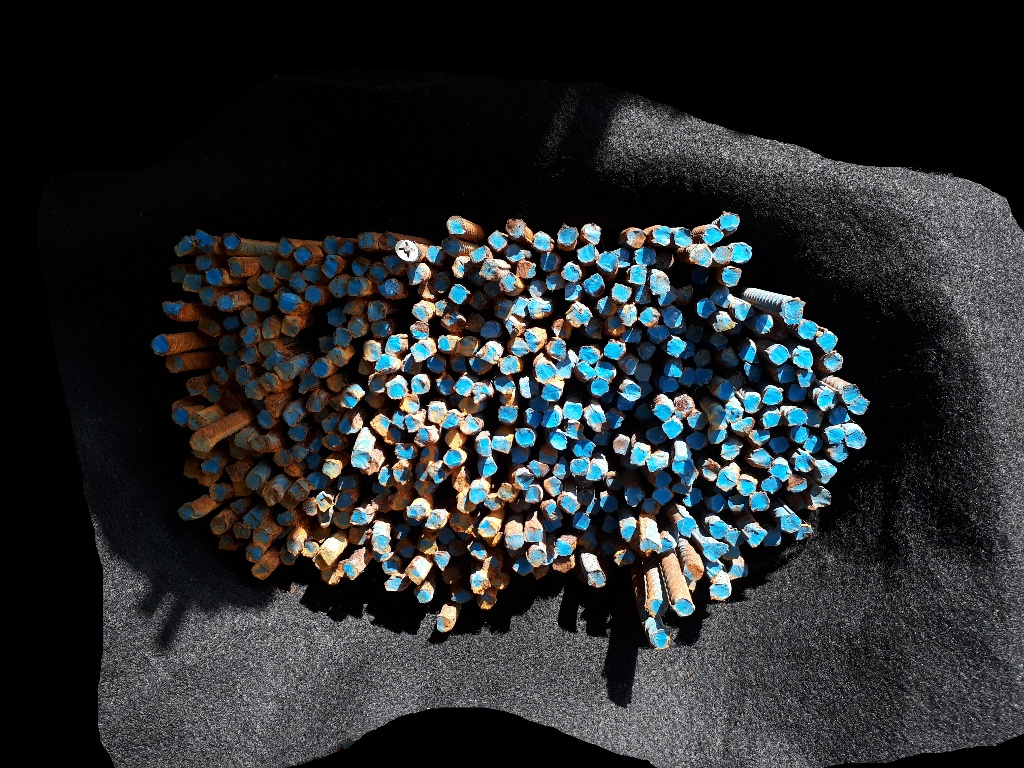dipstick: (476, 341, 503, 364), (406, 498, 431, 522), (566, 305, 590, 329), (582, 403, 606, 427), (523, 328, 548, 351), (396, 239, 419, 264), (373, 353, 400, 374), (428, 461, 451, 485), (478, 259, 504, 280), (265, 393, 286, 419), (526, 298, 552, 318), (814, 460, 837, 482), (277, 293, 300, 315), (782, 299, 803, 323), (691, 244, 712, 268), (725, 558, 749, 579), (453, 467, 474, 491), (321, 256, 345, 277), (650, 270, 670, 295), (414, 427, 439, 447), (394, 440, 419, 460), (810, 487, 832, 509), (470, 573, 492, 595), (263, 485, 285, 507), (198, 315, 220, 337), (730, 242, 751, 265), (711, 244, 734, 265), (499, 272, 522, 293), (456, 491, 477, 514), (436, 373, 457, 396), (370, 413, 393, 434), (748, 449, 772, 469), (670, 456, 694, 476), (645, 598, 669, 618), (595, 252, 619, 272), (557, 493, 581, 513), (425, 509, 449, 529), (234, 428, 258, 448), (459, 416, 484, 435), (286, 482, 311, 501), (745, 315, 774, 331), (661, 418, 683, 439), (638, 307, 660, 328), (560, 263, 582, 284), (535, 362, 556, 384), (378, 278, 400, 299), (150, 334, 171, 356), (798, 318, 818, 341), (767, 345, 790, 365), (713, 312, 736, 332), (188, 432, 211, 452), (702, 542, 726, 561), (326, 348, 350, 367), (702, 226, 723, 247), (816, 331, 837, 352), (744, 526, 765, 547), (320, 541, 341, 562), (721, 265, 741, 287), (702, 459, 722, 481), (676, 516, 696, 538), (618, 304, 638, 326), (584, 273, 604, 295), (630, 443, 650, 465), (546, 339, 568, 359), (526, 545, 546, 567), (514, 468, 534, 490), (450, 513, 472, 533), (472, 383, 494, 403), (393, 461, 415, 481), (735, 344, 758, 363), (576, 244, 599, 263), (527, 459, 550, 478), (443, 449, 466, 468), (363, 339, 382, 362), (648, 630, 672, 648), (572, 439, 596, 457), (553, 456, 571, 480), (469, 356, 493, 374), (720, 212, 740, 233), (792, 349, 813, 369), (742, 362, 763, 382), (666, 336, 686, 357), (542, 476, 563, 496), (515, 427, 536, 447), (499, 355, 520, 375), (506, 217, 526, 238), (488, 230, 508, 251), (491, 435, 512, 455), (498, 482, 518, 503), (448, 283, 468, 304), (322, 459, 342, 480), (329, 277, 350, 297), (240, 324, 261, 344), (193, 227, 213, 248), (231, 479, 252, 499), (794, 454, 816, 473), (803, 434, 825, 453), (706, 426, 728, 445), (596, 297, 618, 316), (604, 316, 626, 335), (553, 555, 575, 574), (557, 226, 579, 245), (451, 258, 470, 280), (407, 263, 426, 285), (410, 343, 432, 362), (283, 405, 302, 427), (244, 380, 266, 399), (634, 248, 657, 266), (613, 549, 636, 567), (603, 341, 626, 359), (593, 361, 616, 379), (172, 238, 195, 256), (822, 351, 842, 371), (770, 461, 790, 481), (708, 520, 728, 540), (612, 283, 632, 303), (625, 486, 645, 506), (552, 319, 572, 339), (562, 400, 582, 420), (478, 458, 498, 478), (426, 353, 446, 373), (402, 353, 422, 373), (367, 302, 387, 322), (198, 288, 218, 308), (847, 395, 868, 414), (789, 425, 810, 444), (817, 389, 836, 410), (716, 472, 737, 491), (706, 407, 727, 426), (715, 380, 736, 399), (685, 431, 706, 450), (648, 324, 669, 343), (633, 284, 652, 305), (591, 428, 612, 447), (584, 317, 603, 338), (538, 252, 559, 271), (506, 243, 525, 264), (446, 215, 467, 234), (444, 429, 465, 448), (406, 566, 427, 585), (411, 303, 432, 322), (399, 394, 420, 413), (384, 256, 405, 275), (348, 318, 367, 339), (316, 492, 337, 511), (305, 394, 326, 413), (262, 318, 281, 339), (162, 300, 183, 319), (826, 444, 848, 462), (748, 493, 770, 511), (730, 302, 752, 320), (695, 299, 717, 317), (709, 583, 731, 601), (576, 532, 598, 550), (522, 527, 544, 545), (512, 558, 534, 576), (494, 375, 516, 393), (428, 401, 446, 423), (384, 574, 406, 592), (171, 403, 189, 425), (227, 463, 249, 481), (440, 312, 463, 329), (274, 363, 297, 380), (730, 417, 754, 433), (847, 429, 866, 449), (736, 477, 755, 497), (646, 425, 666, 444), (625, 229, 645, 248), (590, 378, 609, 398), (587, 569, 606, 589), (583, 224, 602, 244), (555, 536, 574, 556), (541, 409, 561, 428), (519, 377, 538, 397), (498, 405, 518, 424), (404, 412, 423, 432), (370, 494, 390, 513), (387, 380, 406, 400), (368, 263, 387, 283), (346, 277, 366, 296), (336, 492, 356, 511), (321, 236, 341, 255), (281, 317, 300, 337), (262, 351, 281, 371), (244, 543, 264, 562), (211, 368, 230, 388), (229, 442, 249, 461), (769, 436, 790, 454), (661, 308, 682, 326), (674, 227, 692, 248), (652, 488, 673, 506), (578, 345, 599, 363), (612, 434, 630, 455), (554, 357, 572, 378), (563, 420, 584, 438), (480, 320, 501, 338), (468, 485, 489, 503), (453, 377, 474, 395), (413, 585, 434, 603), (378, 465, 396, 486), (229, 256, 247, 277), (204, 267, 225, 285), (164, 356, 185, 374), (186, 376, 204, 397), (705, 495, 727, 512), (650, 471, 672, 488), (621, 326, 643, 343), (434, 550, 451, 572), (370, 535, 392, 552), (414, 481, 437, 497), (321, 434, 344, 450), (786, 407, 805, 426), (584, 462, 603, 481), (549, 431, 568, 450), (513, 297, 532, 316), (495, 300, 514, 319), (299, 375, 318, 394), (275, 239, 294, 258), (302, 264, 321, 283), (194, 252, 213, 271), (181, 274, 200, 293), (208, 483, 227, 502), (742, 394, 760, 414), (721, 441, 741, 459), (653, 403, 673, 421), (682, 489, 702, 507), (646, 455, 666, 473), (628, 265, 648, 283), (575, 362, 595, 380), (600, 494, 620, 512), (604, 473, 624, 491), (563, 283, 583, 301), (541, 383, 561, 401), (516, 260, 536, 278), (474, 436, 492, 456), (439, 410, 459, 428), (410, 375, 430, 393), (368, 372, 386, 392), (351, 450, 371, 468), (332, 511, 352, 529), (311, 359, 331, 377), (333, 327, 351, 347), (327, 309, 347, 327), (229, 499, 253, 514), (804, 410, 825, 427), (762, 387, 783, 404), (750, 429, 771, 446), (504, 532, 525, 549), (433, 272, 450, 293), (220, 335, 237, 356), (640, 498, 662, 514), (620, 383, 642, 399), (458, 398, 481, 413), (797, 369, 816, 387), (780, 514, 799, 532), (675, 395, 694, 413), (637, 340, 656, 358), (600, 515, 618, 534), (604, 410, 623, 428), (528, 279, 546, 298), (573, 513, 592, 531), (540, 500, 559, 518), (525, 484, 544, 502), (506, 317, 524, 336), (469, 291, 488, 309), (469, 541, 487, 560), (490, 571, 509, 589), (425, 245, 443, 264), (418, 281, 436, 300), (385, 335, 403, 354), (378, 231, 396, 250), (252, 563, 271, 581), (273, 449, 292, 467), (240, 346, 259, 364), (239, 307, 258, 325), (257, 253, 276, 271), (216, 294, 234, 313), (843, 384, 860, 404), (787, 475, 807, 492), (787, 384, 807, 401), (761, 412, 781, 429), (653, 226, 670, 246), (676, 286, 696, 303), (683, 563, 703, 580), (673, 598, 693, 615), (633, 404, 653, 421), (613, 248, 630, 268), (484, 493, 504, 510), (469, 246, 489, 263), (459, 337, 476, 357), (419, 538, 439, 555), (419, 446, 439, 463), (388, 493, 408, 510), (349, 508, 369, 525), (343, 560, 360, 580), (348, 528, 368, 545), (293, 246, 313, 263), (249, 437, 269, 454), (829, 408, 850, 424), (759, 478, 780, 494), (476, 593, 497, 609), (371, 322, 392, 338), (709, 288, 731, 303), (620, 357, 638, 375), (384, 426, 402, 444), (356, 358, 374, 376), (361, 457, 379, 475), (257, 410, 275, 428), (261, 373, 279, 391), (290, 443, 308, 461), (221, 312, 239, 330), (202, 460, 220, 478), (825, 427, 844, 444), (776, 366, 795, 383), (539, 446, 558, 463), (478, 519, 497, 536), (410, 321, 429, 338), (313, 553, 332, 570), (235, 368, 254, 385), (183, 460, 200, 479), (659, 376, 679, 392), (680, 469, 700, 485), (531, 234, 551, 250), (276, 262, 296, 278), (306, 472, 326, 488), (284, 461, 304, 477), (342, 300, 363, 315), (638, 538, 660, 552), (528, 396, 550, 410), (451, 589, 473, 603), (678, 368, 695, 386), (634, 364, 652, 381), (544, 273, 562, 290), (511, 446, 528, 464), (525, 408, 542, 426), (442, 566, 459, 584), (437, 527, 455, 544), (340, 391, 358, 408), (328, 375, 346, 392), (339, 240, 357, 257), (245, 473, 263, 490), (265, 434, 282, 452), (663, 362, 682, 378), (686, 413, 705, 429), (437, 614, 453, 633), (366, 392, 385, 408), (301, 541, 320, 557), (286, 539, 305, 555), (304, 287, 323, 303), (252, 294, 271, 310), (170, 266, 189, 282), (196, 469, 215, 485), (541, 544, 556, 564), (443, 239, 463, 254), (288, 426, 308, 441), (728, 373, 745, 390), (721, 350, 738, 367), (340, 417, 357, 434), (694, 369, 712, 385), (695, 349, 711, 367), (706, 561, 722, 579), (620, 526, 638, 542), (544, 516, 562, 532), (511, 340, 529, 356), (396, 541, 414, 557), (370, 550, 394, 562), (233, 523, 251, 539), (224, 233, 242, 249), (205, 384, 221, 402), (726, 532, 745, 547), (482, 282, 501, 297), (276, 511, 295, 526), (243, 513, 262, 528), (246, 274, 261, 293), (709, 334, 729, 348), (726, 405, 743, 421), (796, 524, 813, 540), (727, 495, 744, 511), (635, 382, 652, 398), (484, 557, 501, 573), (352, 258, 368, 275), (289, 274, 306, 290), (253, 529, 270, 545), (279, 548, 295, 565), (657, 290, 675, 305), (722, 545, 740, 560), (358, 232, 376, 247), (321, 417, 339, 432), (186, 415, 204, 430), (763, 531, 782, 545), (437, 336, 456, 350), (415, 462, 429, 481), (257, 340, 276, 354), (218, 537, 237, 551), (383, 560, 399, 576), (211, 519, 227, 535), (179, 504, 195, 520), (678, 343, 695, 358), (656, 536, 673, 551), (616, 396, 633, 411), (318, 336, 333, 353), (307, 436, 322, 453), (577, 491, 595, 505), (303, 498, 317, 516), (599, 539, 615, 554), (307, 453, 321, 470), (257, 274, 274, 288), (321, 570, 339, 583), (337, 476, 356, 488), (586, 501, 602, 515), (450, 357, 466, 371), (434, 299, 448, 315), (393, 412, 406, 429), (394, 525, 411, 538), (227, 356, 242, 370), (672, 482, 690, 493), (373, 482, 391, 493)
